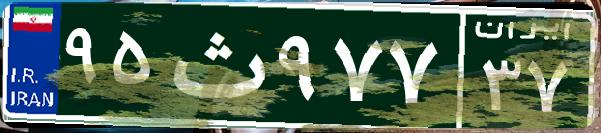3: (475, 38, 525, 113)
5: (110, 28, 158, 105)
7: (385, 28, 445, 110), (330, 28, 385, 110), (525, 38, 570, 115)
9: (273, 28, 330, 110), (57, 26, 110, 107)
ث: (158, 15, 273, 115)
